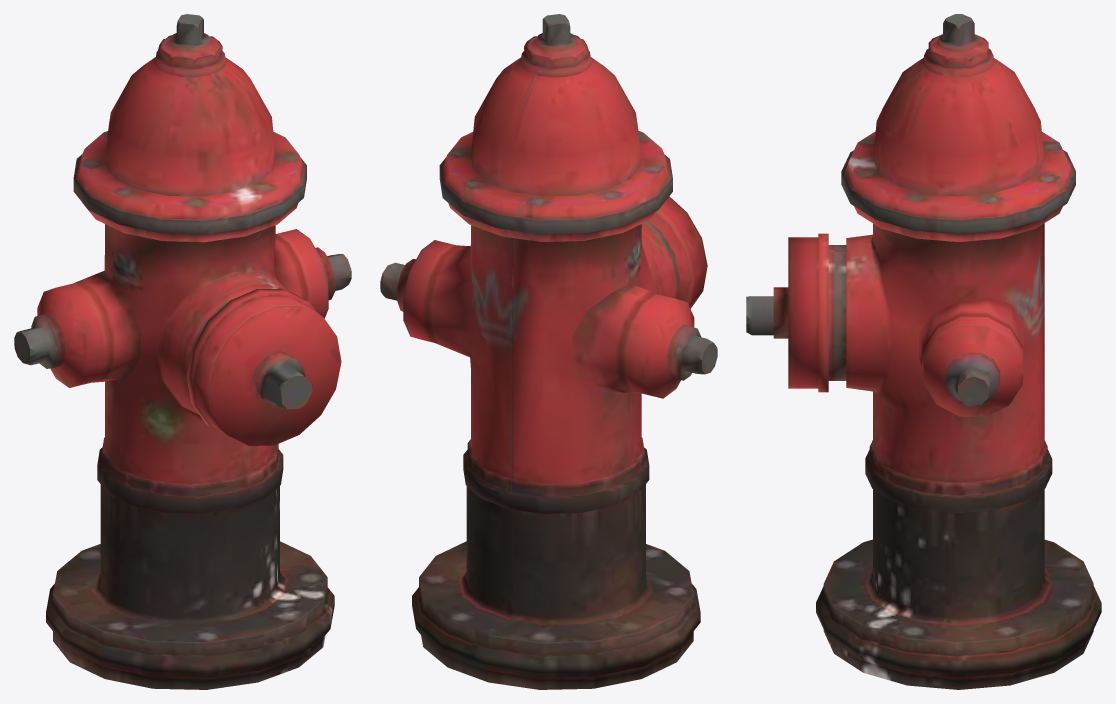
The model's file is fire-hydrant.glb.
3 views of the same model, side by side, from view 1: azimuth 30°, elevation 25°; view 2: azimuth 150°, elevation 25°; view 3: azimuth 270°, elevation 25° (orthographic).
Parts seen in each view (by area): view 1: Hydrant_low; view 2: Hydrant_low; view 3: Hydrant_low.
Boxes of the visible parts, x1,y1,x2,y2 form: Hydrant_low: [14, 14, 351, 689]; Hydrant_low: [380, 14, 717, 689]; Hydrant_low: [746, 14, 1101, 689].
Size of the model in its own units: 0.3984 by 0.75 by 0.3821.
1 material, 1 textured.
